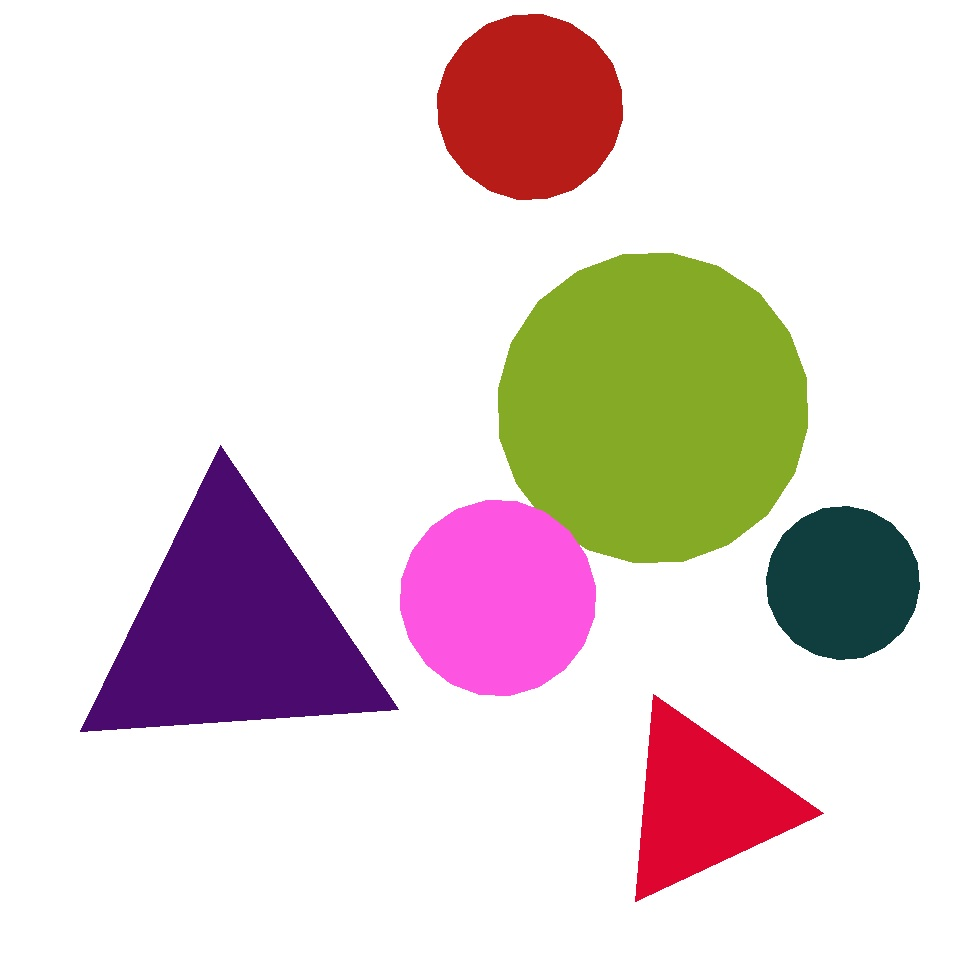circle: (74, 486, 392, 772), (610, 700, 798, 906), (340, 28, 532, 194), (228, 273, 344, 391)
triangle: (498, 253, 807, 562), (401, 500, 596, 696), (438, 15, 622, 200), (766, 506, 920, 660)
